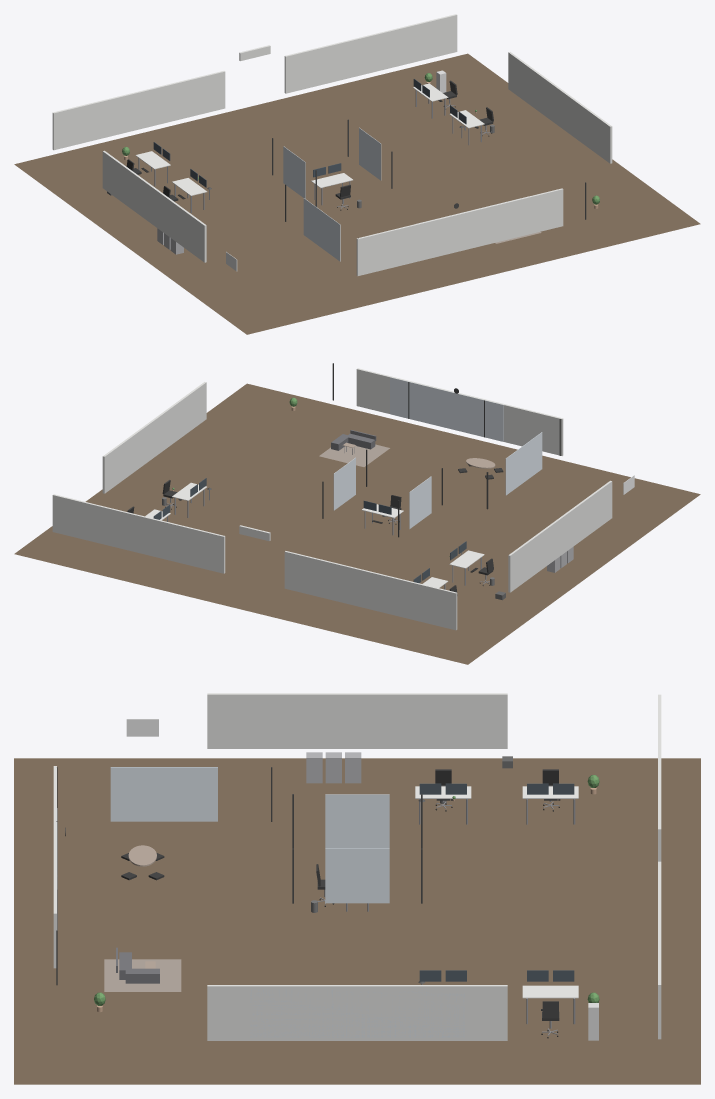
File: office_v19.glb
The picture shows the model from 3 angles, top to bottom: view 1: azimuth 30°, elevation 25°; view 2: azimuth 150°, elevation 25°; view 3: azimuth 270°, elevation 25°; orthographic projection. The views are drawn at different scales.
Parts seen in each view (by area): view 1: Plane, Cube, Cube.001, Cube.002, Cube.004, Cube.005, Cube.013, Cube.011, Cube.012; view 2: Plane, Cube.002, Cube.001, Cube.014, Cube.004, Cube.005, Cube, Cube.013, Cube.012, Cube.011, Plane.001; view 3: Plane, Cube.004, Cube.005, Cube.013, Cube.006, Cube.012, Cube.011, Plane.001, Cube, Cube.077, Cube.002.
Part boxes in pixels (<box>): Plane: <box>14,53,700,334</box>; Cube: <box>356,188,563,275</box>; Cube.001: <box>52,71,225,150</box>; Cube.002: <box>284,14,457,93</box>; Cube.004: <box>102,150,206,262</box>; Cube.005: <box>508,52,612,163</box>; Cube.013: <box>303,198,340,261</box>; Cube.011: <box>283,146,305,198</box>; Cube.012: <box>359,127,381,180</box>; Plane: <box>14,383,700,664</box>; Cube.002: <box>52,494,225,573</box>; Cube.001: <box>284,551,457,630</box>; Cube.014: <box>390,377,503,441</box>; Cube.004: <box>508,480,612,592</box>; Cube.005: <box>102,382,206,493</box>; Cube: <box>356,368,563,455</box>; Cube.013: <box>505,432,542,495</box>; Cube.012: <box>333,457,355,510</box>; Cube.011: <box>409,476,431,528</box>; Plane.001: <box>319,444,389,466</box>; Plane: <box>14,758,700,1084</box>; Cube.004: <box>207,693,507,748</box>; Cube.005: <box>207,985,507,1040</box>; Cube.013: <box>110,767,217,821</box>; Cube.006: <box>250,989,464,1037</box>; Cube.012: <box>325,848,389,903</box>; Cube.011: <box>325,794,389,848</box>; Plane.001: <box>104,959,181,991</box>; Cube: <box>53,766,56,968</box>; Cube.077: <box>522,985,578,998</box>; Cube.002: <box>658,861,661,1039</box>.
Bounding box in the file's own units: 18 × 2.65 × 16.
